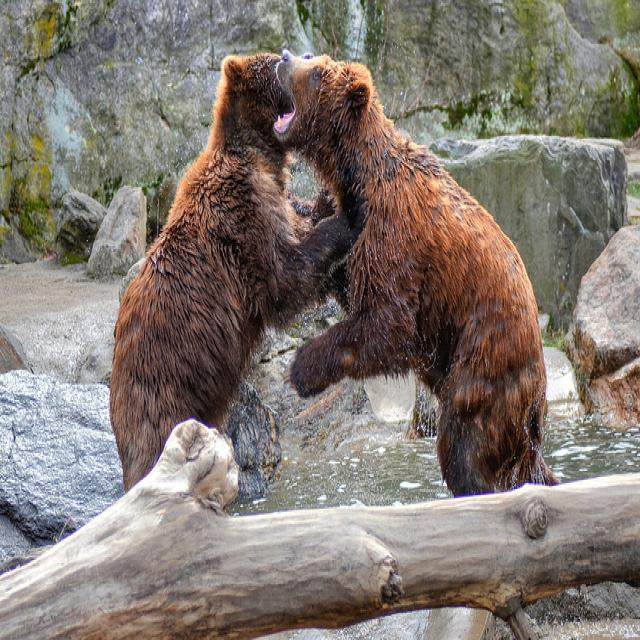Bear: (274, 40, 564, 511), (99, 33, 351, 535)
